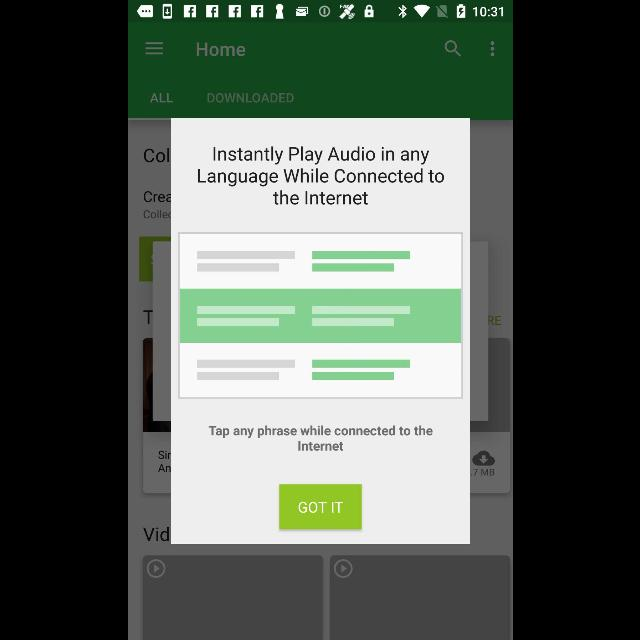icon: (444, 41, 461, 57), (144, 42, 162, 56), (490, 41, 494, 57)
image: (178, 232, 462, 400)
panel: (170, 118, 470, 544)
text: (196, 147, 444, 206), (208, 425, 432, 451), (206, 93, 294, 103), (196, 43, 244, 57), (150, 93, 172, 103)
textbutton: (278, 484, 362, 530)
uppertaskbar: (128, 1, 512, 23)
